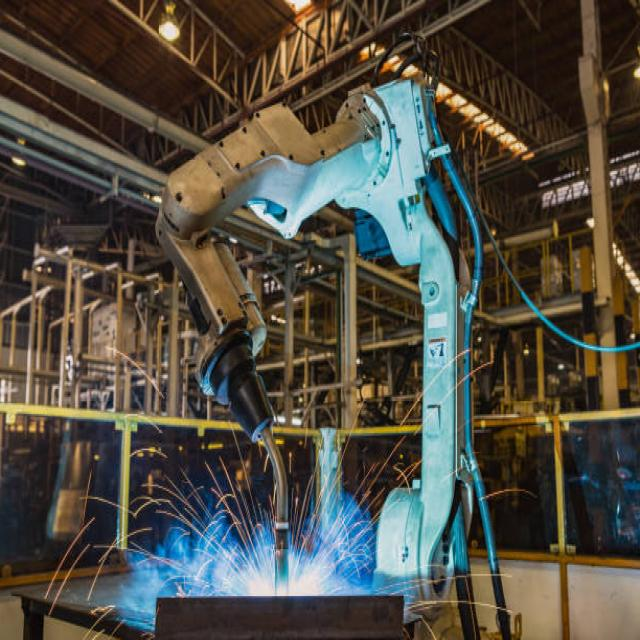Robotic-arm: (153, 68, 480, 640)
